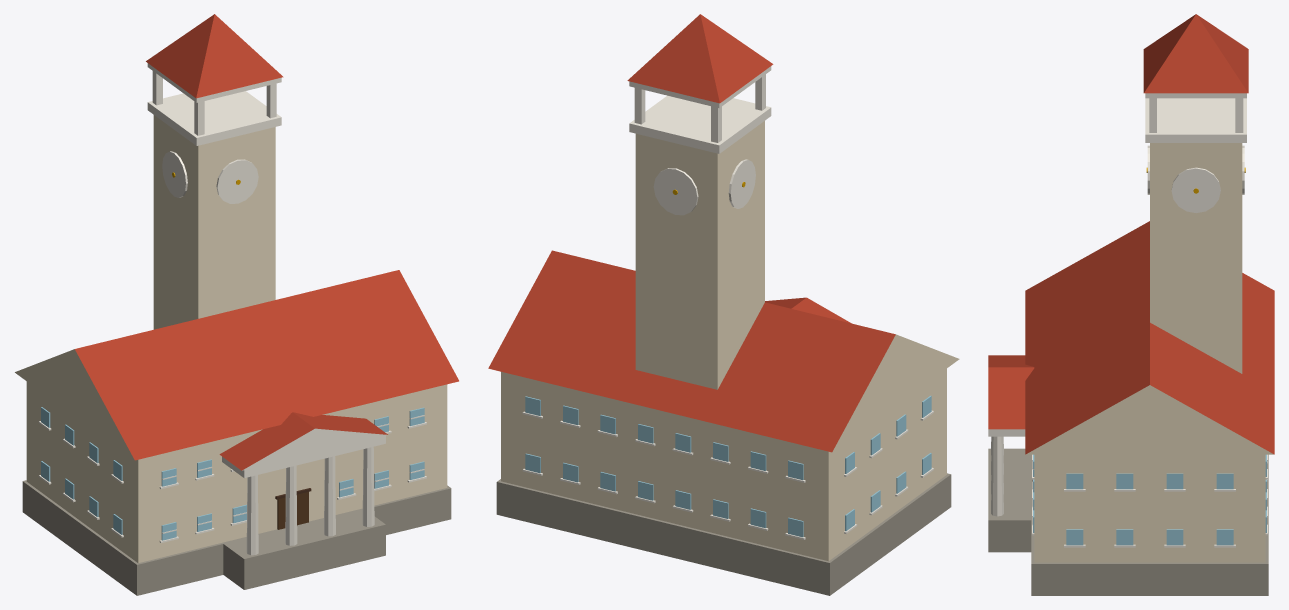
File: town_hall.glb
3 views of the same model, side by side, from view 1: azimuth 30°, elevation 25°; view 2: azimuth 150°, elevation 25°; view 3: azimuth 270°, elevation 25° (orthographic). The views are drawn at different scales.
Parts seen in each view (by area): view 1: town_hall-col; view 2: town_hall-col; view 3: town_hall-col.
Part boxes in pixels (bbox=[...]): town_hall-col: bbox=[15, 14, 458, 595]; town_hall-col: bbox=[488, 14, 959, 595]; town_hall-col: bbox=[988, 14, 1274, 595].
Bounding box in the file's own units: 25.2 × 36 × 18.6.
